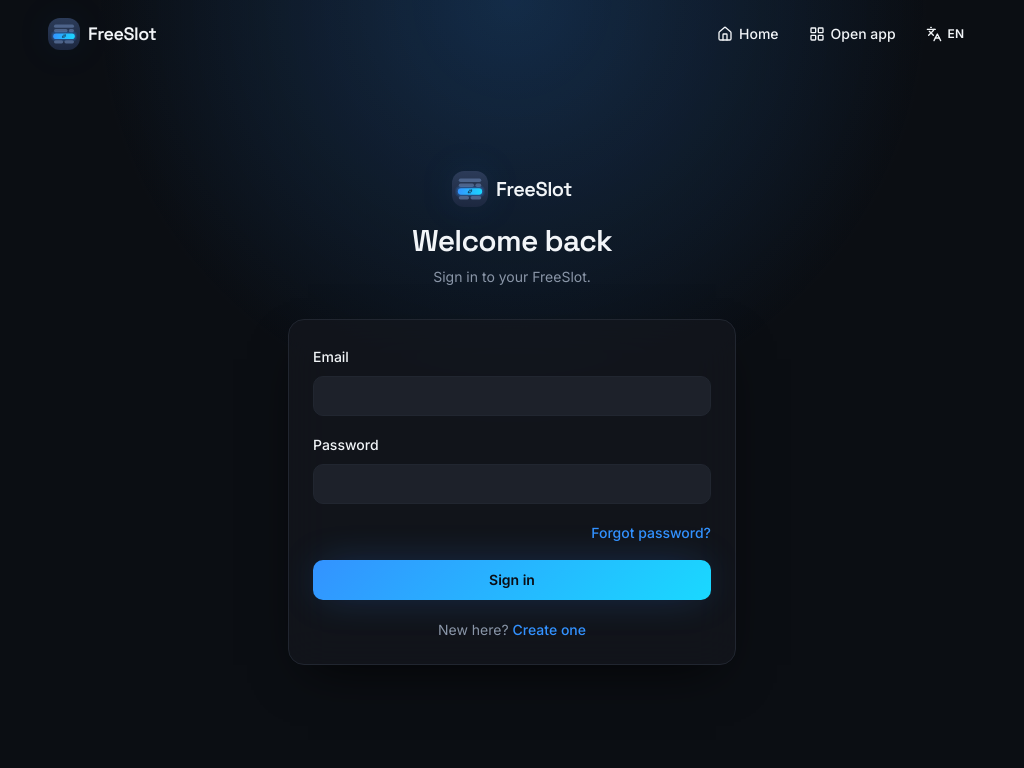
Scenario: Auth — default mode › updates the URL when toggling between sign-in and signup
The image size is (1024, 768).
Click the button "Create one" at (549, 630), box [513,620,586,640]
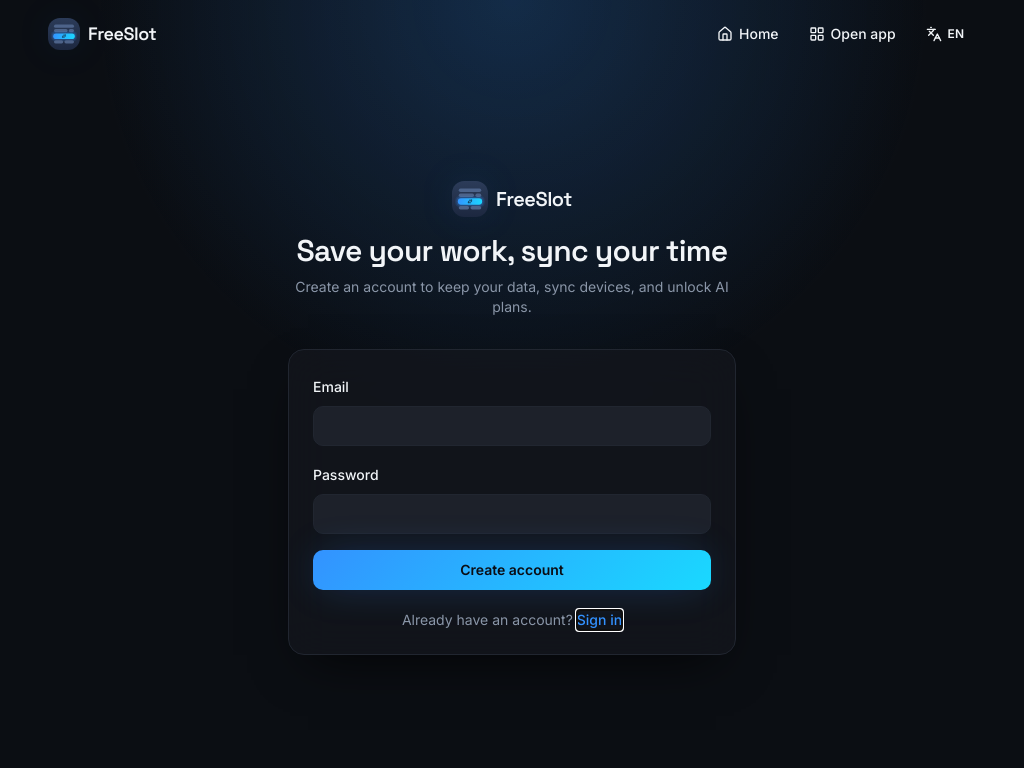
Expected: the button "Create account" is shown, [313,550,711,590]
Click the button "Sign in" at (600, 620), box [577,610,622,630]
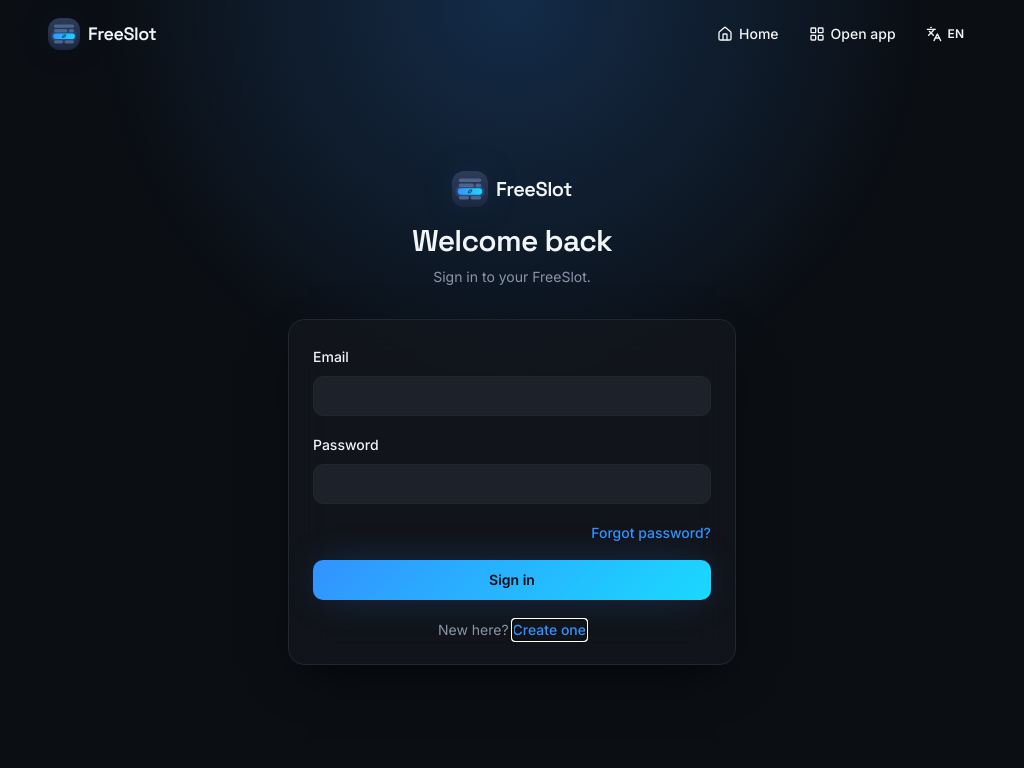
Expected: the button "Sign in" is shown, [313,560,711,600]
Expected: the button with test id "auth-forgot-link" is shown, [591,523,711,543]
